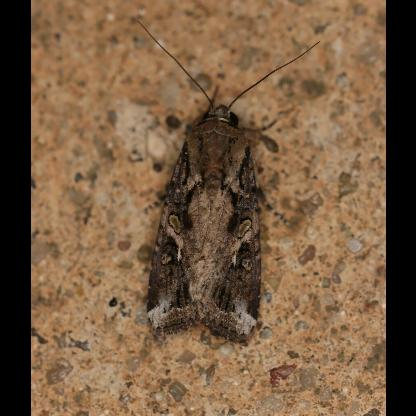Fall Armyworm Moth: (135, 17, 323, 347)
